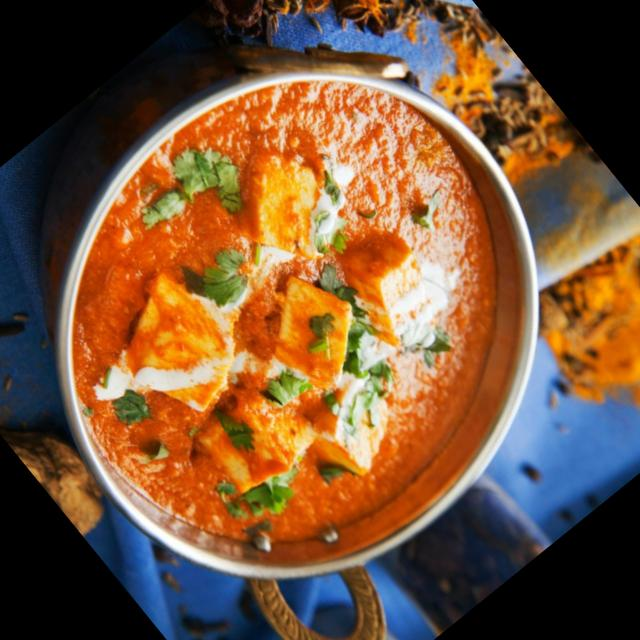ShahiPaneer: (0, 0, 611, 630)
